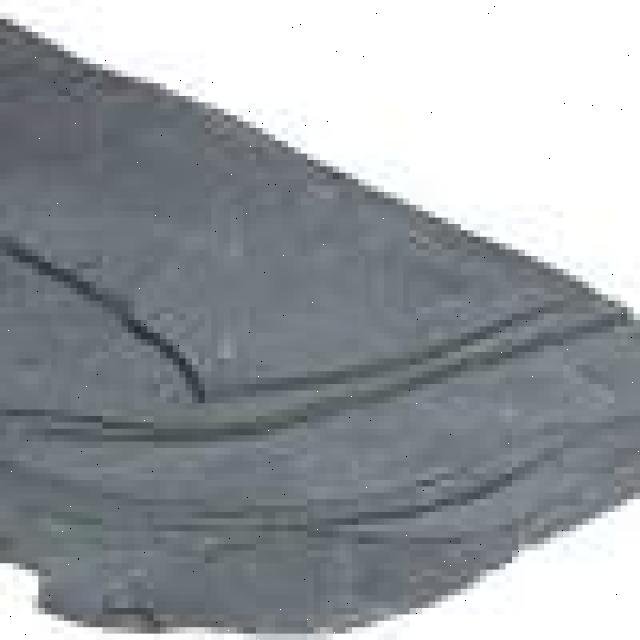Metamorphic: (6, 26, 634, 634)
